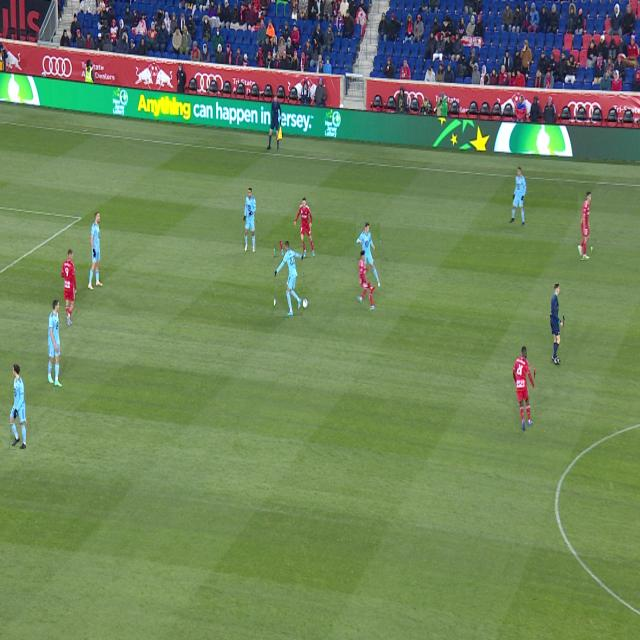football: (302, 298, 308, 308)
player: (275, 242, 303, 316), (514, 347, 534, 430), (357, 223, 380, 287), (10, 364, 26, 449), (294, 198, 315, 258), (48, 300, 62, 387), (358, 251, 378, 310), (88, 212, 103, 290), (62, 249, 77, 326), (509, 167, 526, 226), (243, 188, 256, 253), (579, 192, 591, 259)
referee: (551, 284, 563, 364)
